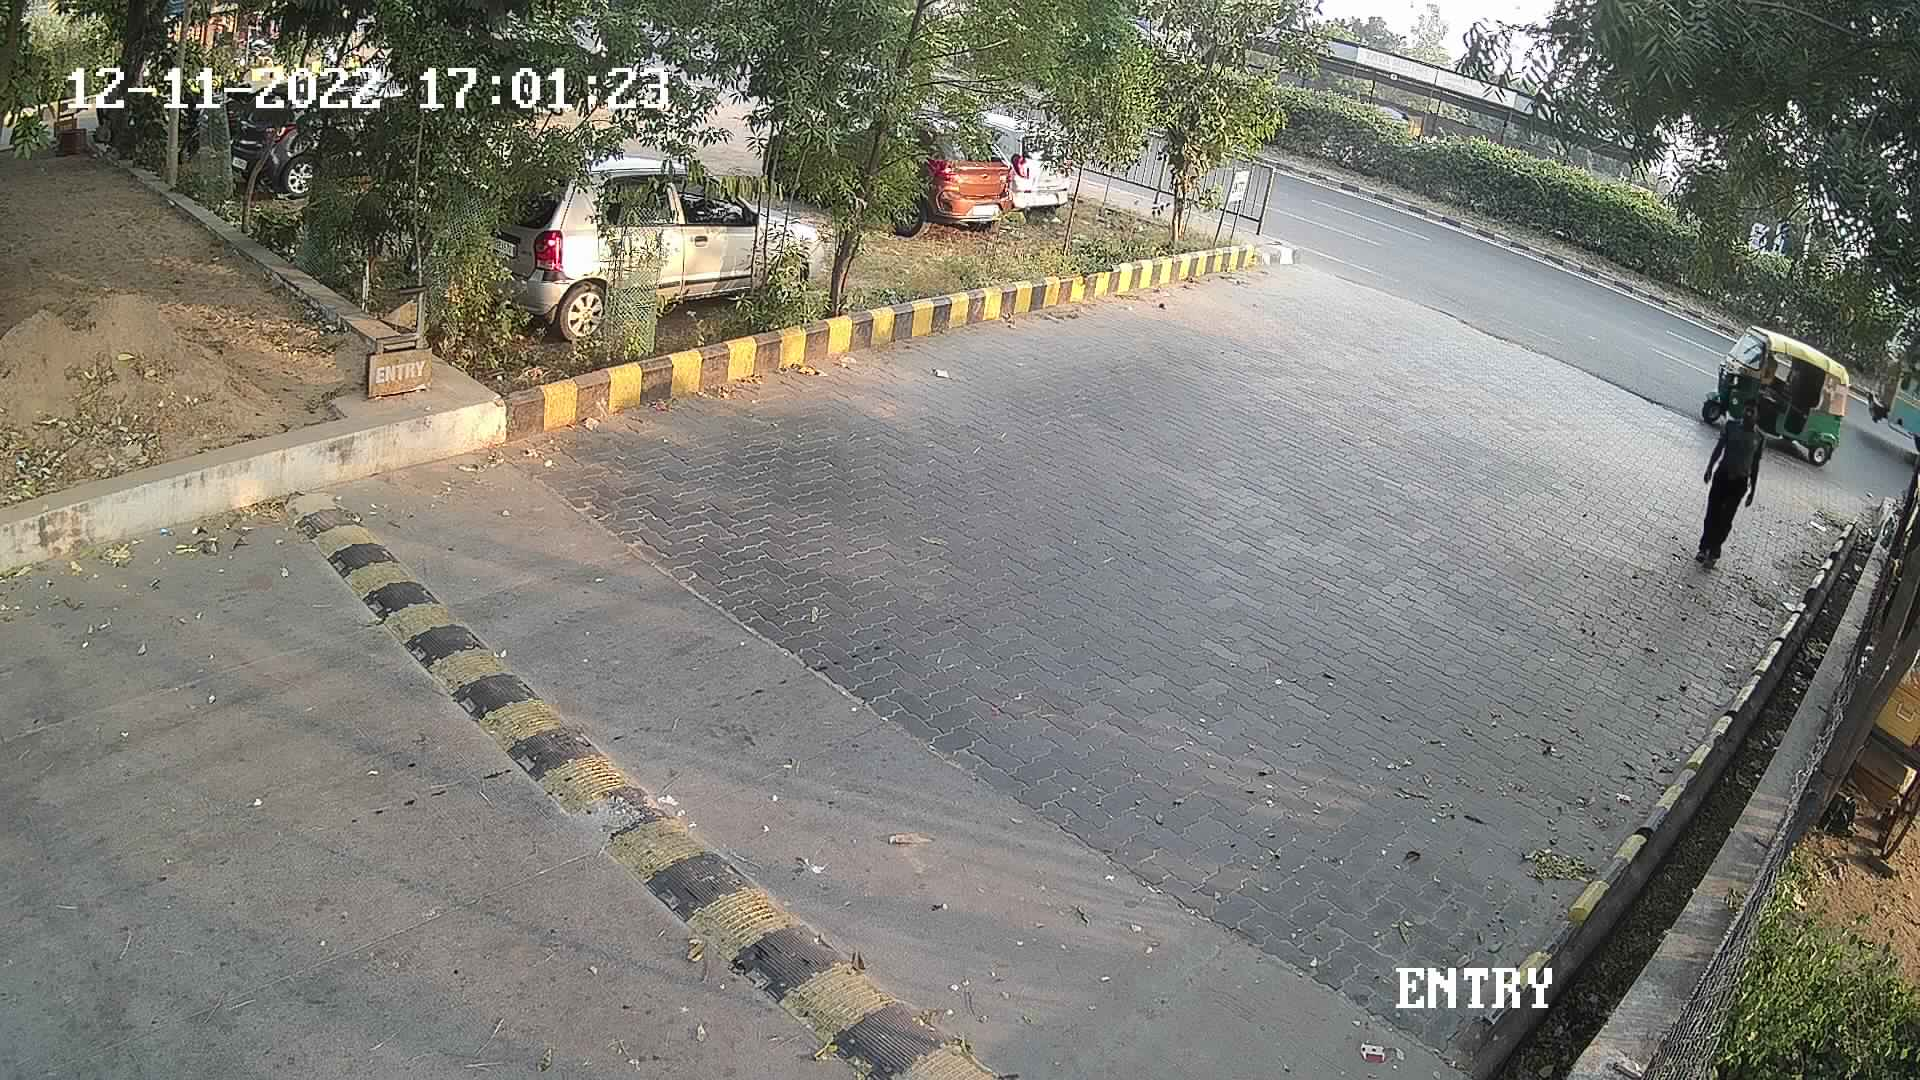Auto: (1684, 315, 1850, 468)
Car: (483, 146, 824, 347), (872, 104, 1021, 245), (972, 100, 1077, 220)
